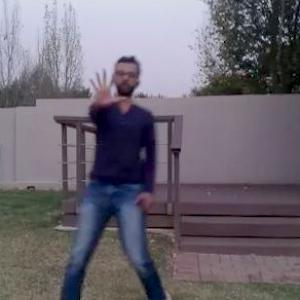follow_hand: (86, 66, 128, 107)
